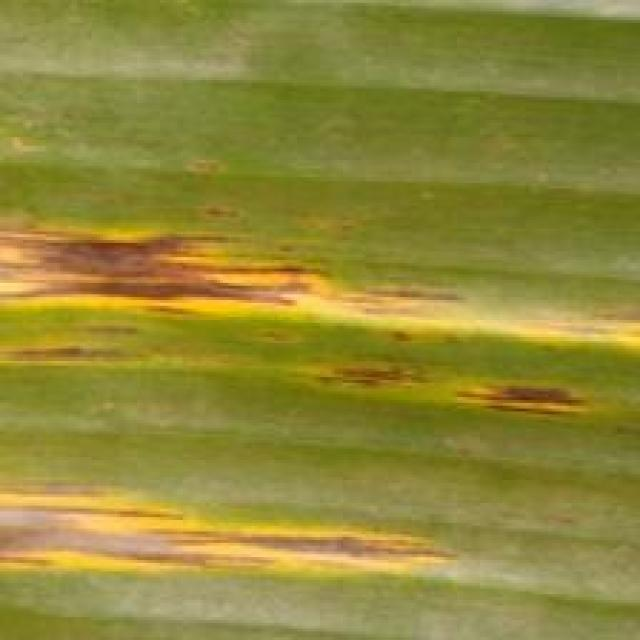Early_leaf_spot: (0, 428, 483, 592), (0, 166, 347, 316), (308, 210, 634, 348), (231, 329, 597, 437), (0, 314, 161, 388)
